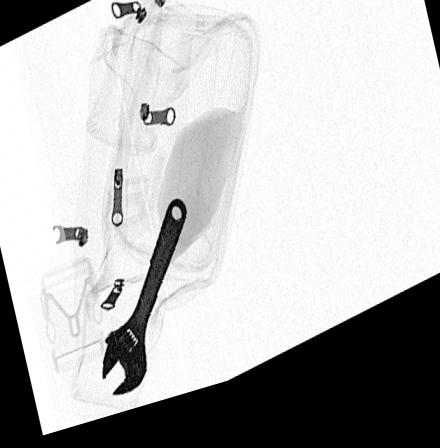Wrench: (98, 209, 187, 403)
